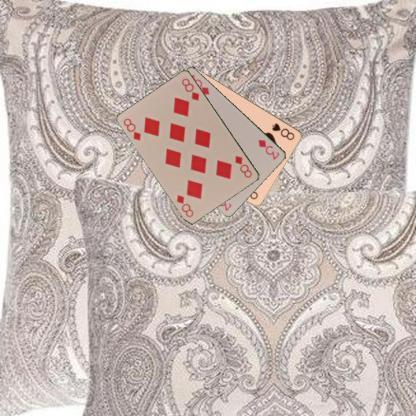3d: (256, 136, 282, 162)
8d: (120, 116, 142, 142), (233, 154, 254, 180)
8s: (270, 120, 297, 142)
